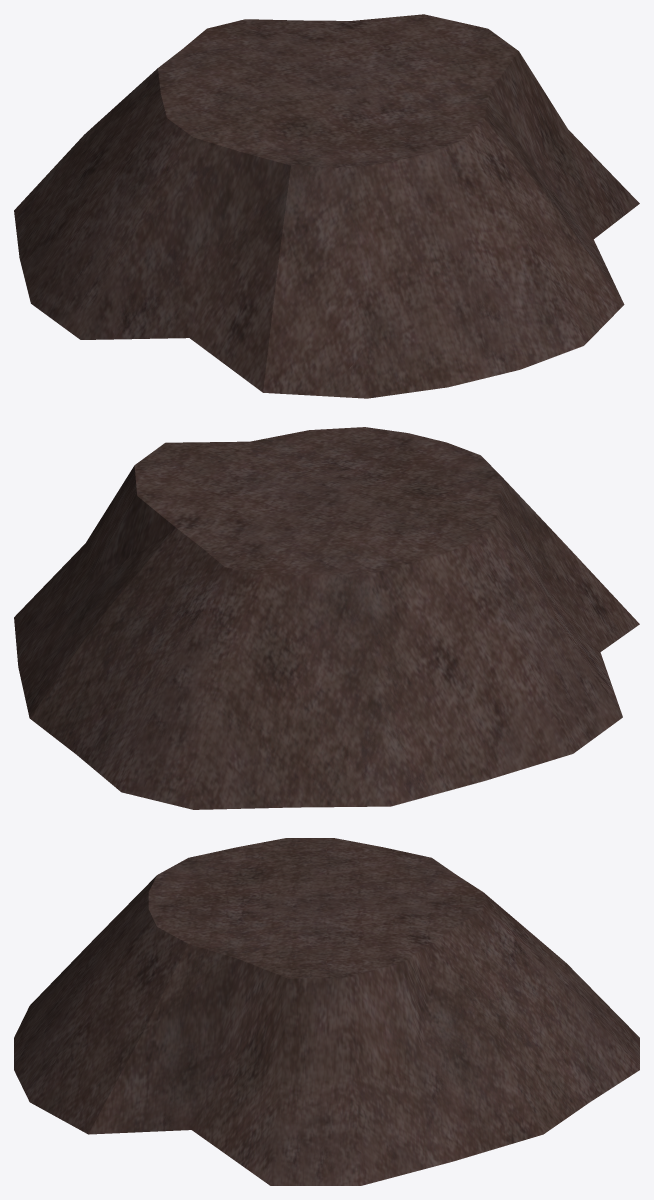
The model's file is Large Rock.FBX.
The picture shows the model from 3 angles, top to bottom: view 1: azimuth 30°, elevation 25°; view 2: azimuth 150°, elevation 25°; view 3: azimuth 270°, elevation 25°; orthographic projection. The views are drawn at different scales.
Parts seen in each view (by area): view 1: Large Stone; view 2: Large Stone; view 3: Large Stone.
Boxes of the visible parts, <box> form: Large Stone: <box>14,14,639,398</box>; Large Stone: <box>14,427,639,809</box>; Large Stone: <box>14,838,639,1185</box>.
Size of the model in its own units: 51.86 by 15.28 by 55.01.
1 material, 1 textured.
